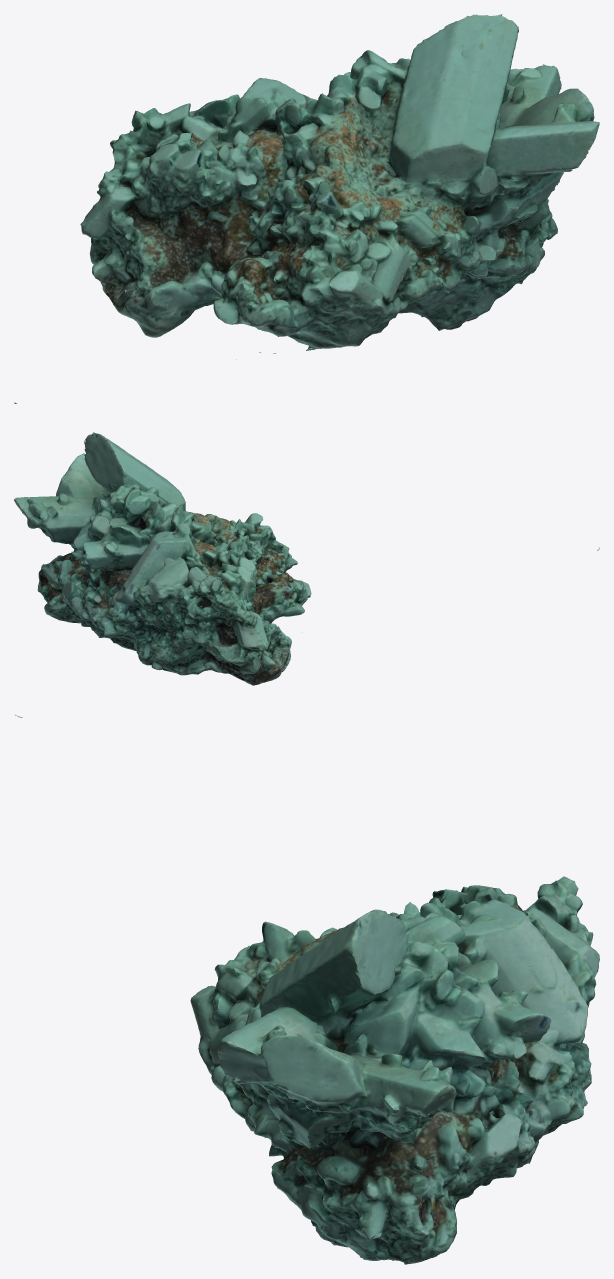
The model's file is malachite.glb.
The picture shows the model from 3 angles, top to bottom: view 1: azimuth 30°, elevation 25°; view 2: azimuth 150°, elevation 25°; view 3: azimuth 270°, elevation 25°; orthographic projection. The views are drawn at different scales.
Visible parts, largest first — view 1: Object_4; view 2: Object_4; view 3: Object_4.
Part boxes in pixels (bbox=[...]): Object_4: bbox=[14, 14, 599, 403]; Object_4: bbox=[14, 432, 599, 685]; Object_4: bbox=[15, 715, 599, 1264].
Bounding box in the file's own units: 0.7453 × 0.2906 × 0.4455.
Materials: 1 (1 with a texture image).
